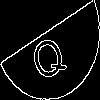Q: (25, 25, 69, 86)
